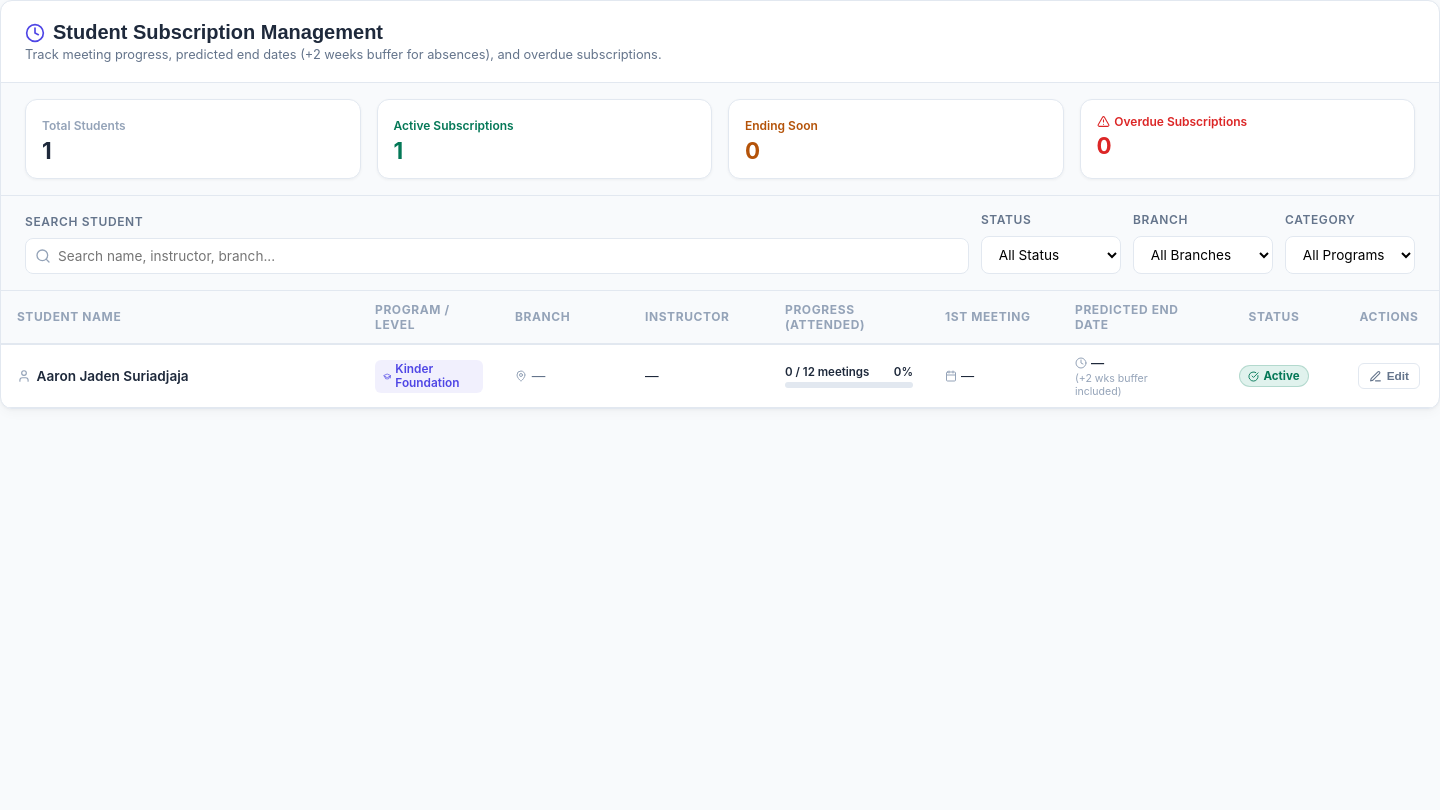
it: NewStudentSubscriptionsPage — Academic Term Coverage › auto-detects Term 3 as starting term when Term 1 and Term 2 are already paid in internal_student_terms
Expected: the text "Aaron Jaden Suriadjaja" is shown, [17, 368, 189, 384]
Click the button titled "Edit Subscription Start Date & Package": x=1389, y=376 [1358, 363, 1420, 389]
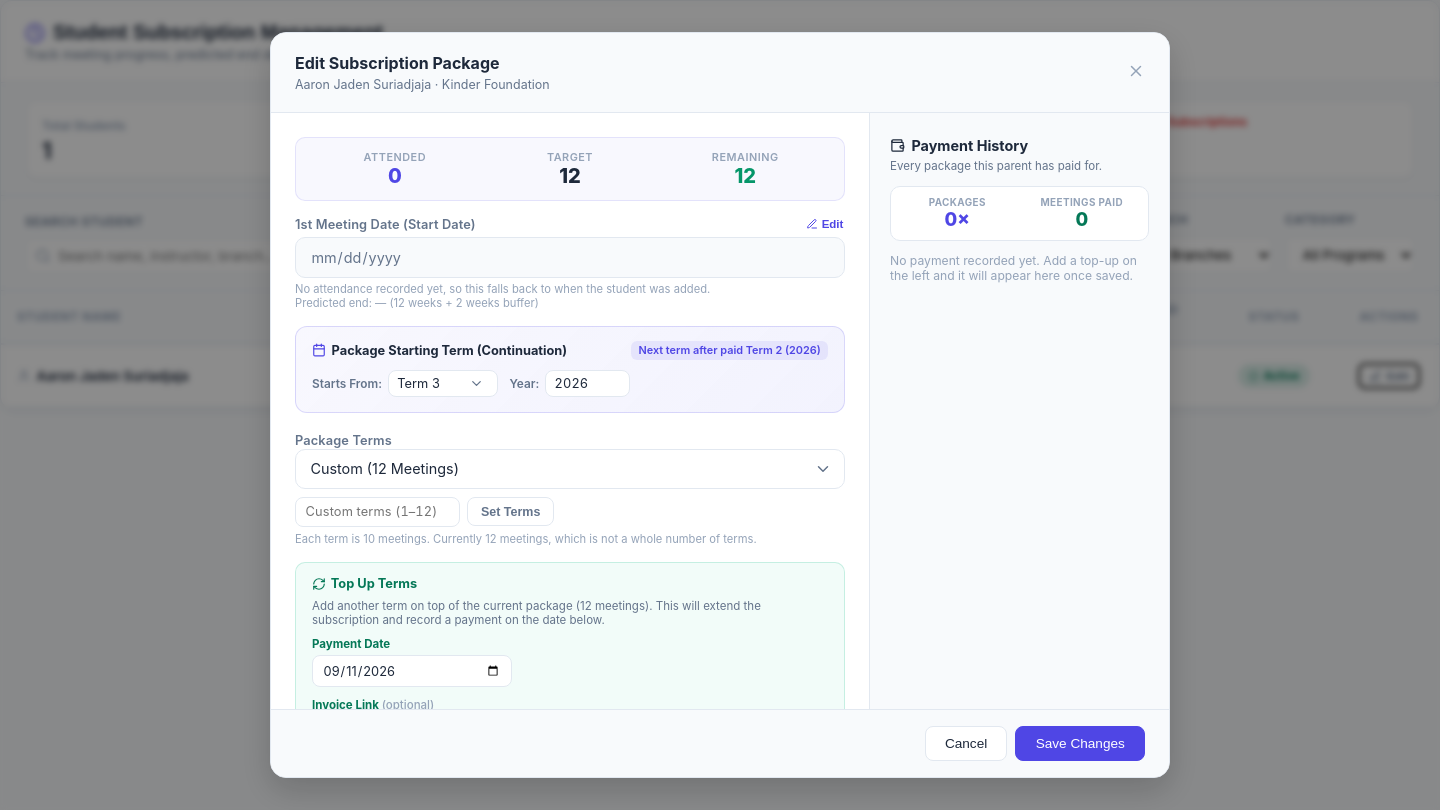
Expected: the dropdown labelled "Starts From:" shows "Term 3", [388, 370, 498, 397]
Select 2 terms (20 meetings)
Select "2 Terms (20 Meetings) — Covers Term 3 & Term 4 (2026)" in the dropdown labelled "Package Terms": x=570, y=469 [295, 449, 845, 488]
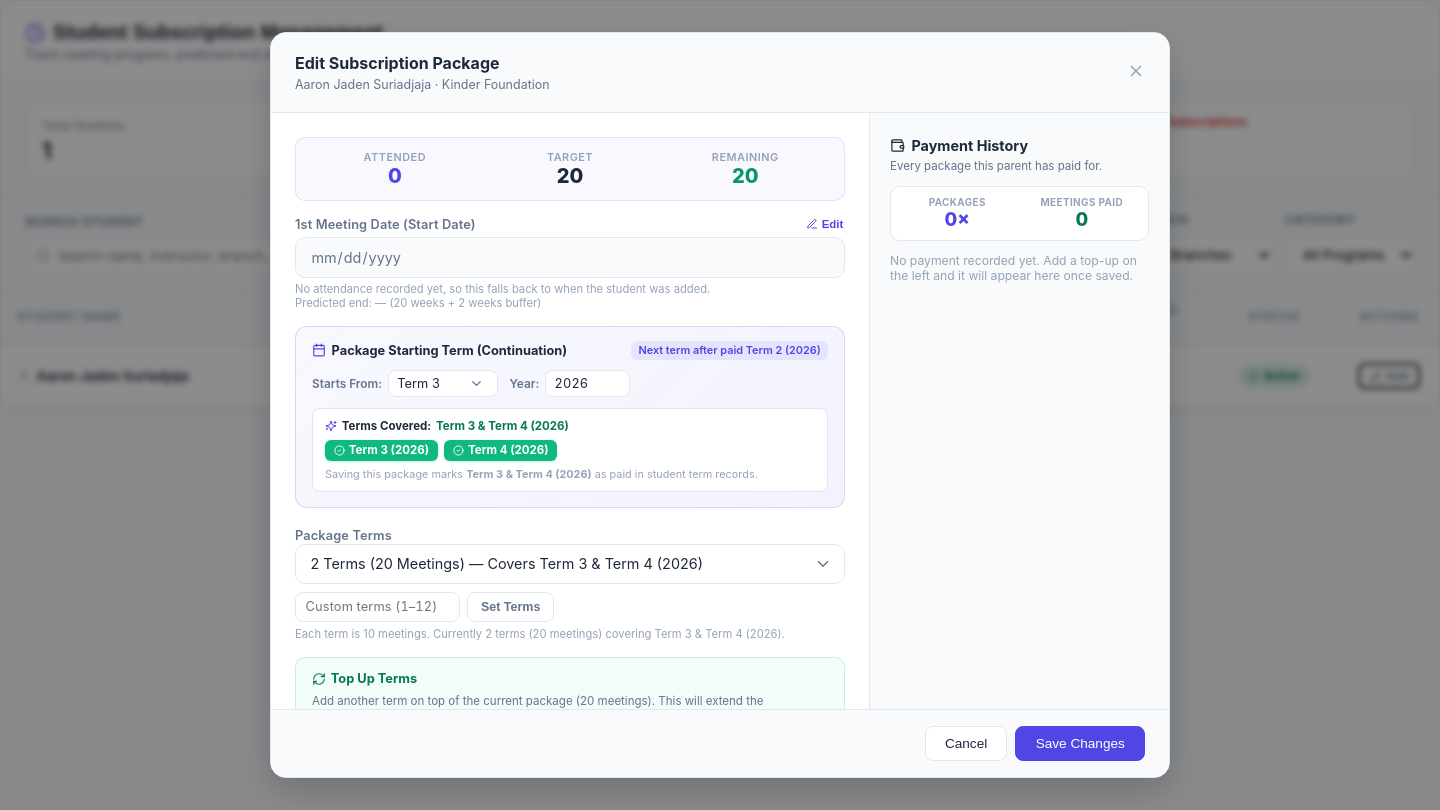
Expected: the text "Term 3 & Term 4 (2026)" next to "Terms Covered:" is shown, [436, 419, 569, 433]
